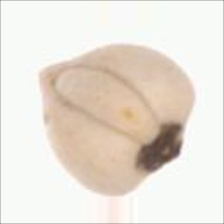L5: (53, 65, 159, 145), (135, 120, 187, 177), (34, 54, 77, 109)
L6: (31, 41, 199, 198)
